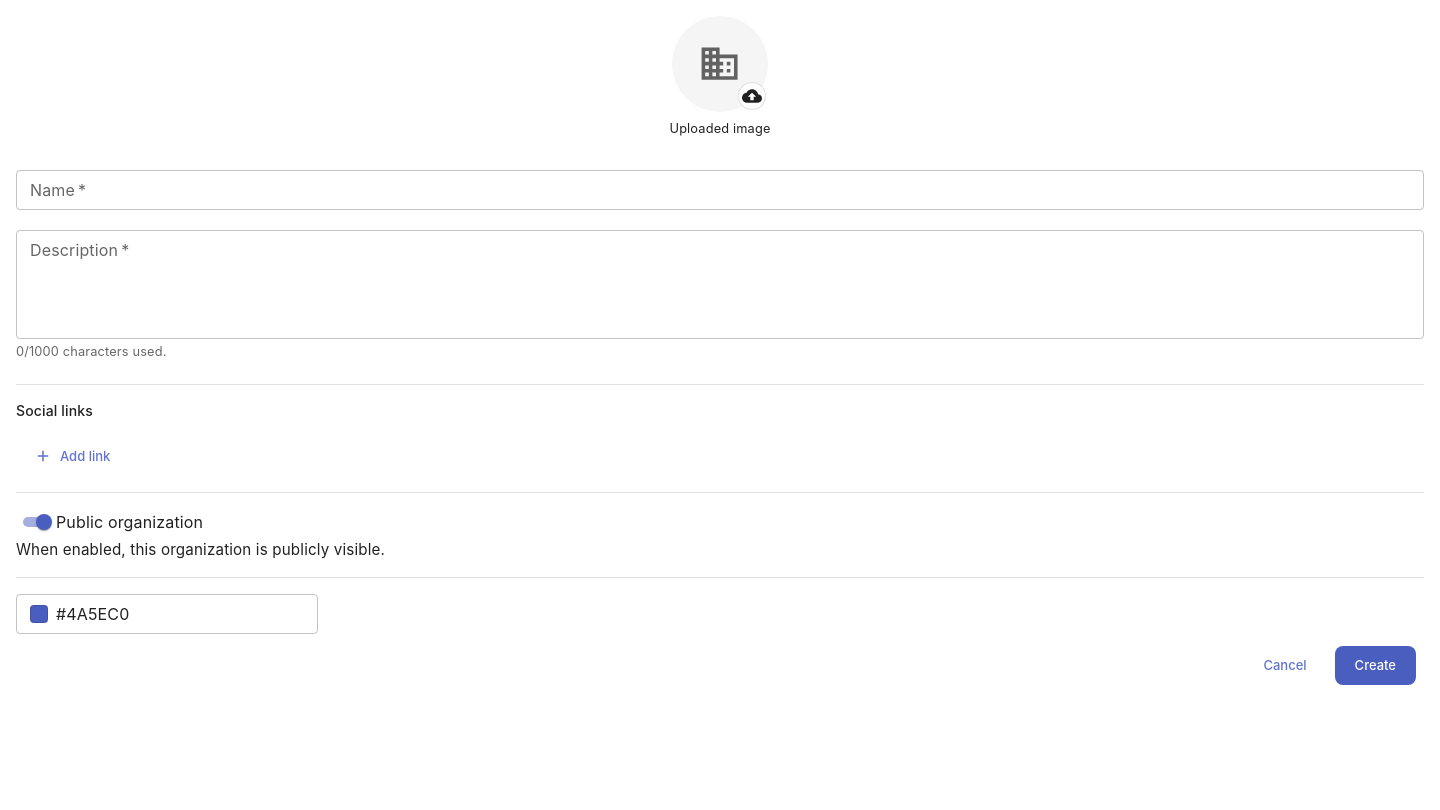
Test case: OrganizationForm › shows URL validation error for invalid social link URL
The image size is (1440, 810).
Step 1. Click the button "Add link" → (73, 456), box [16,437,130,476]
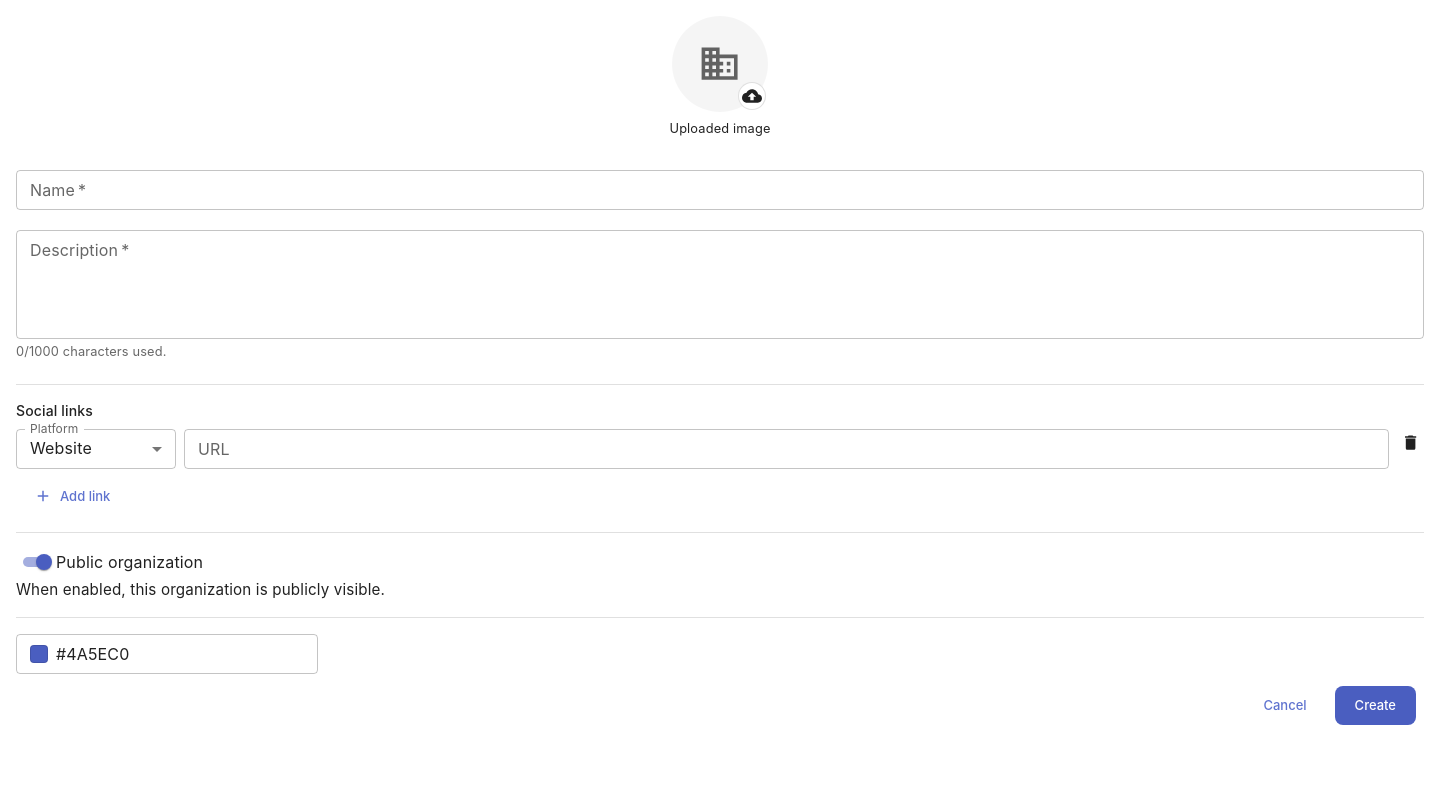
Step 2. Type "not-a-url" into the field labelled "URL" → (786, 449), box [184,429,1389,469]
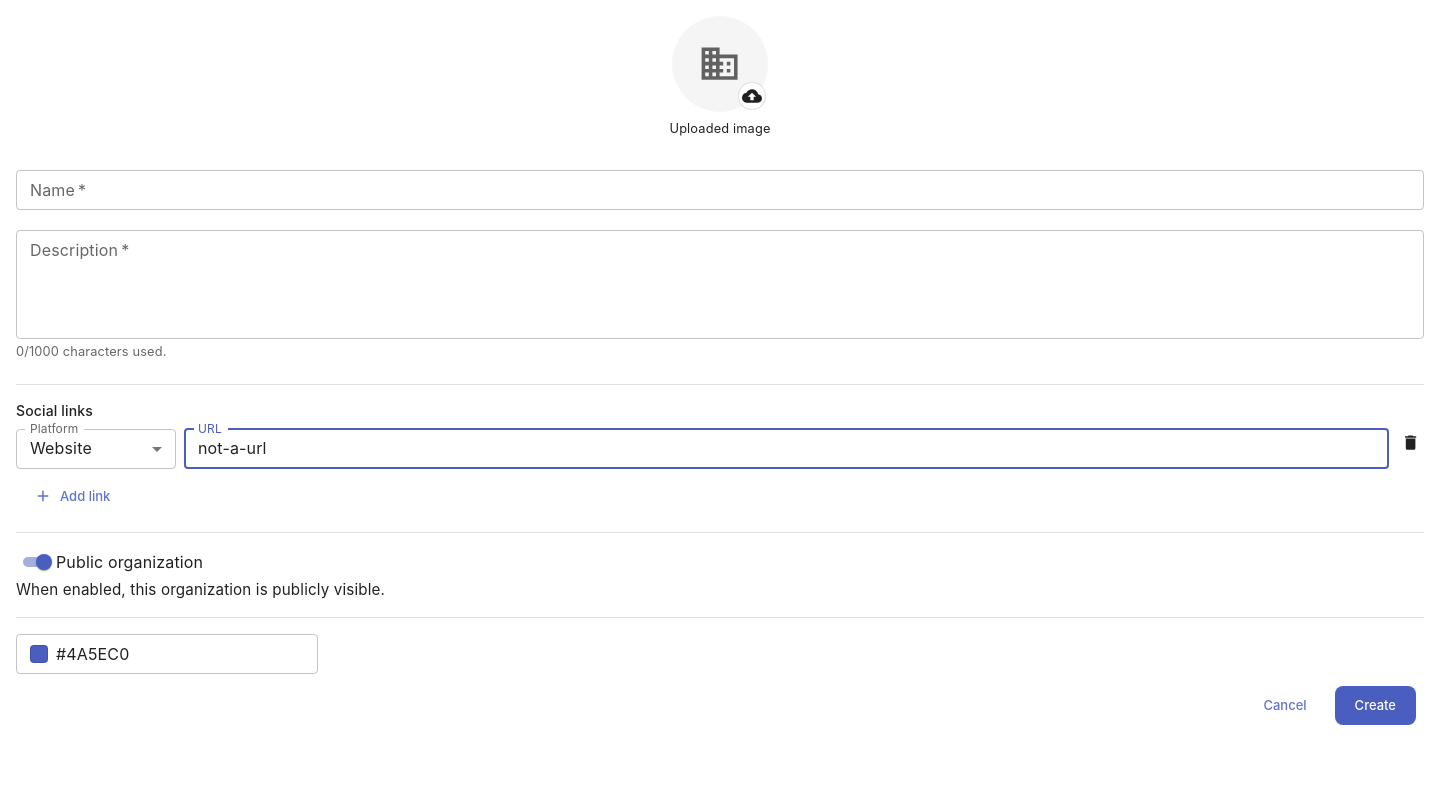
Step 3. Click the button "Create" → (1375, 706), box [1335,686,1416,725]
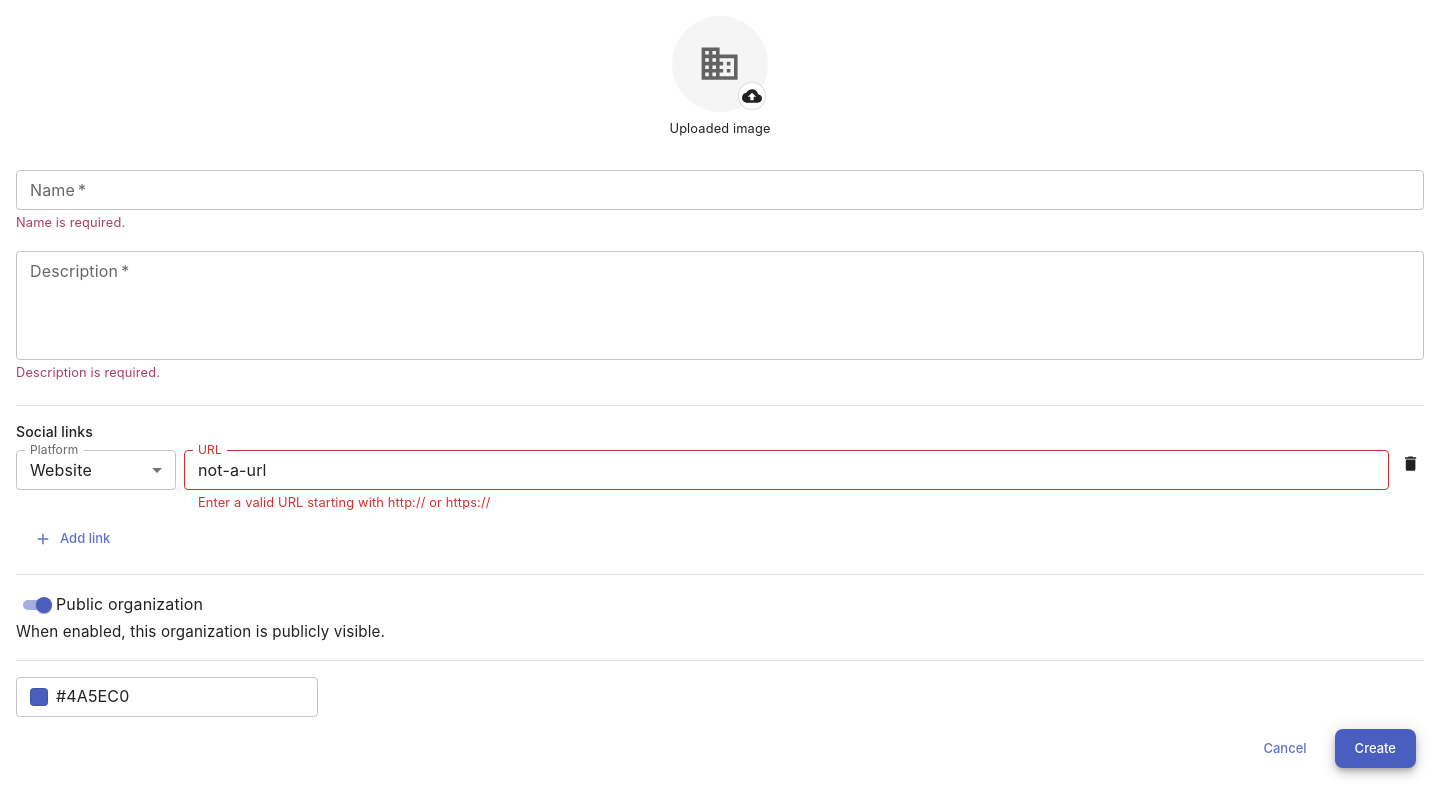
Now the text "Enter a valid URL starting with http:// or https://" is shown, box [198,495,490,510]
